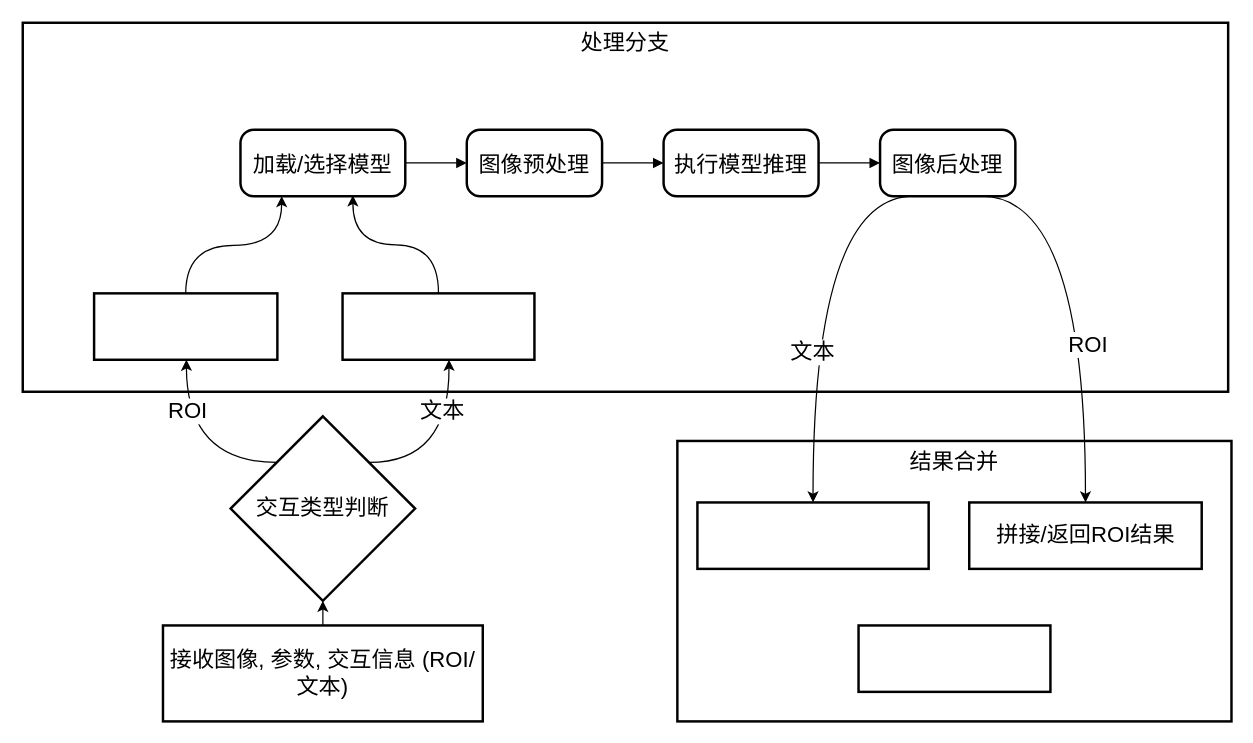
Some shapes in this 1253 by 743 pixel diagram are drawn without their labels. Here are the shapes that lost their labels. From the top down, the box of each, then its label:
(92, 292, 278, 360): 提取ROI区域
(341, 292, 535, 360): 解析文本指令
(696, 501, 929, 569): 返回符合意图结果
(857, 624, 1051, 692): 返回最终结果
